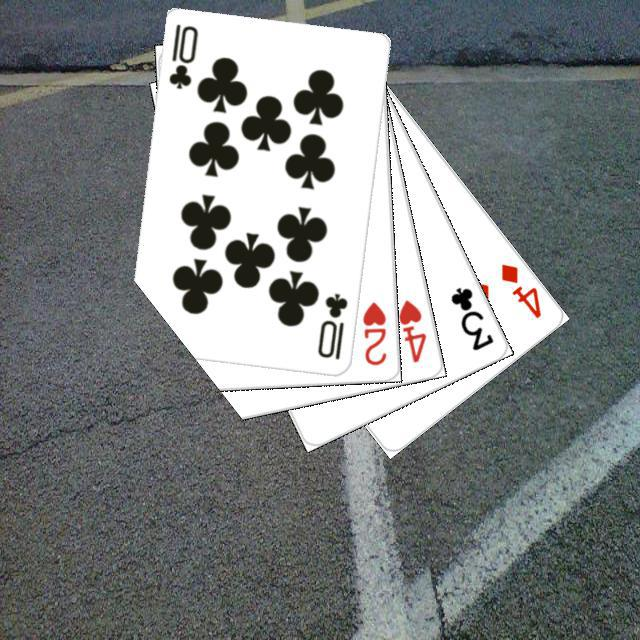10c: (312, 288, 350, 361), (164, 19, 200, 91)
2h: (357, 297, 388, 367)
3c: (445, 282, 496, 353)
4d: (495, 258, 543, 320)
4h: (393, 295, 428, 365)
